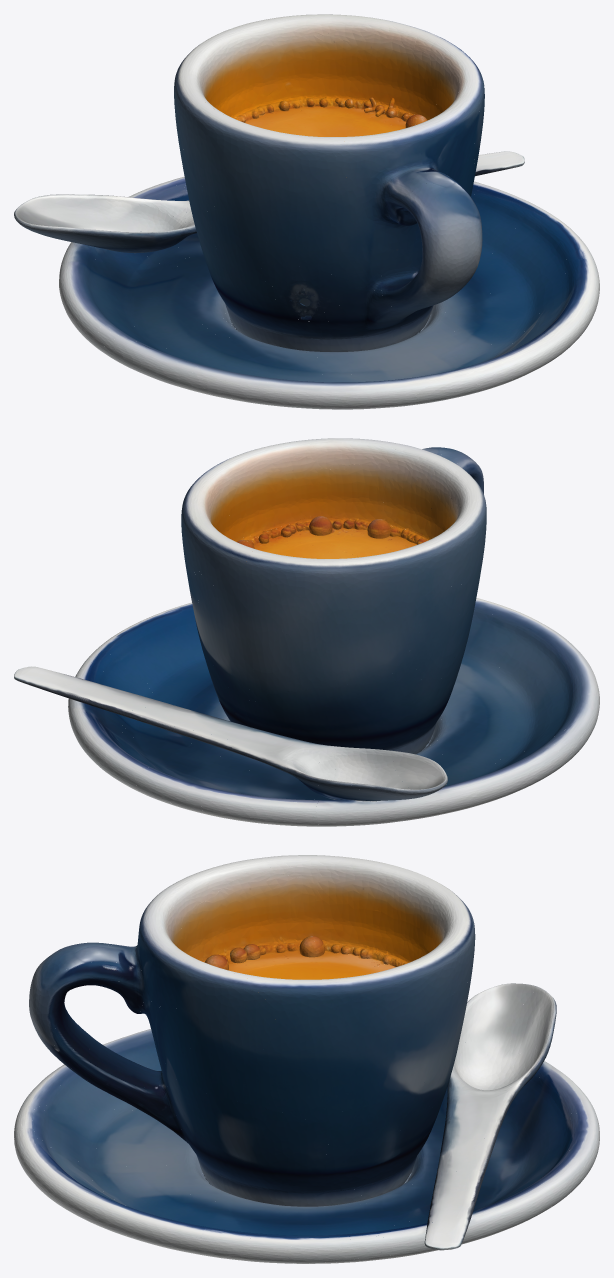
The model's file is espresso.glb.
3 views of the same model, one above another, from view 1: azimuth 30°, elevation 25°; view 2: azimuth 150°, elevation 25°; view 3: azimuth 270°, elevation 25° (orthographic). The views are drawn at different scales.
Parts seen in each view (by area): view 1: tripo_node_8047a13c-6928-4c60-8dbe-51cd9a0a7481; view 2: tripo_node_8047a13c-6928-4c60-8dbe-51cd9a0a7481; view 3: tripo_node_8047a13c-6928-4c60-8dbe-51cd9a0a7481.
Boxes of the visible parts, x1,y1,x2,y2 form: tripo_node_8047a13c-6928-4c60-8dbe-51cd9a0a7481: (14, 14, 599, 409); tripo_node_8047a13c-6928-4c60-8dbe-51cd9a0a7481: (14, 438, 599, 826); tripo_node_8047a13c-6928-4c60-8dbe-51cd9a0a7481: (14, 855, 599, 1263).
Bounding box in the file's own units: 0.9799 × 0.4802 × 0.9666.
Materials: 1 (1 with a texture image).
